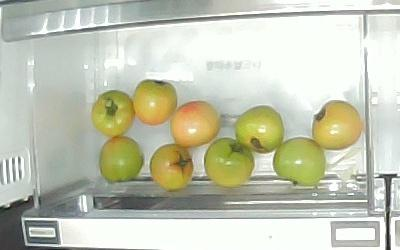tomato: (272, 137, 325, 187), (311, 100, 362, 151), (204, 138, 255, 187), (235, 106, 284, 154), (171, 101, 221, 148), (148, 144, 194, 191), (98, 136, 144, 183), (90, 90, 134, 137), (134, 79, 177, 125)
